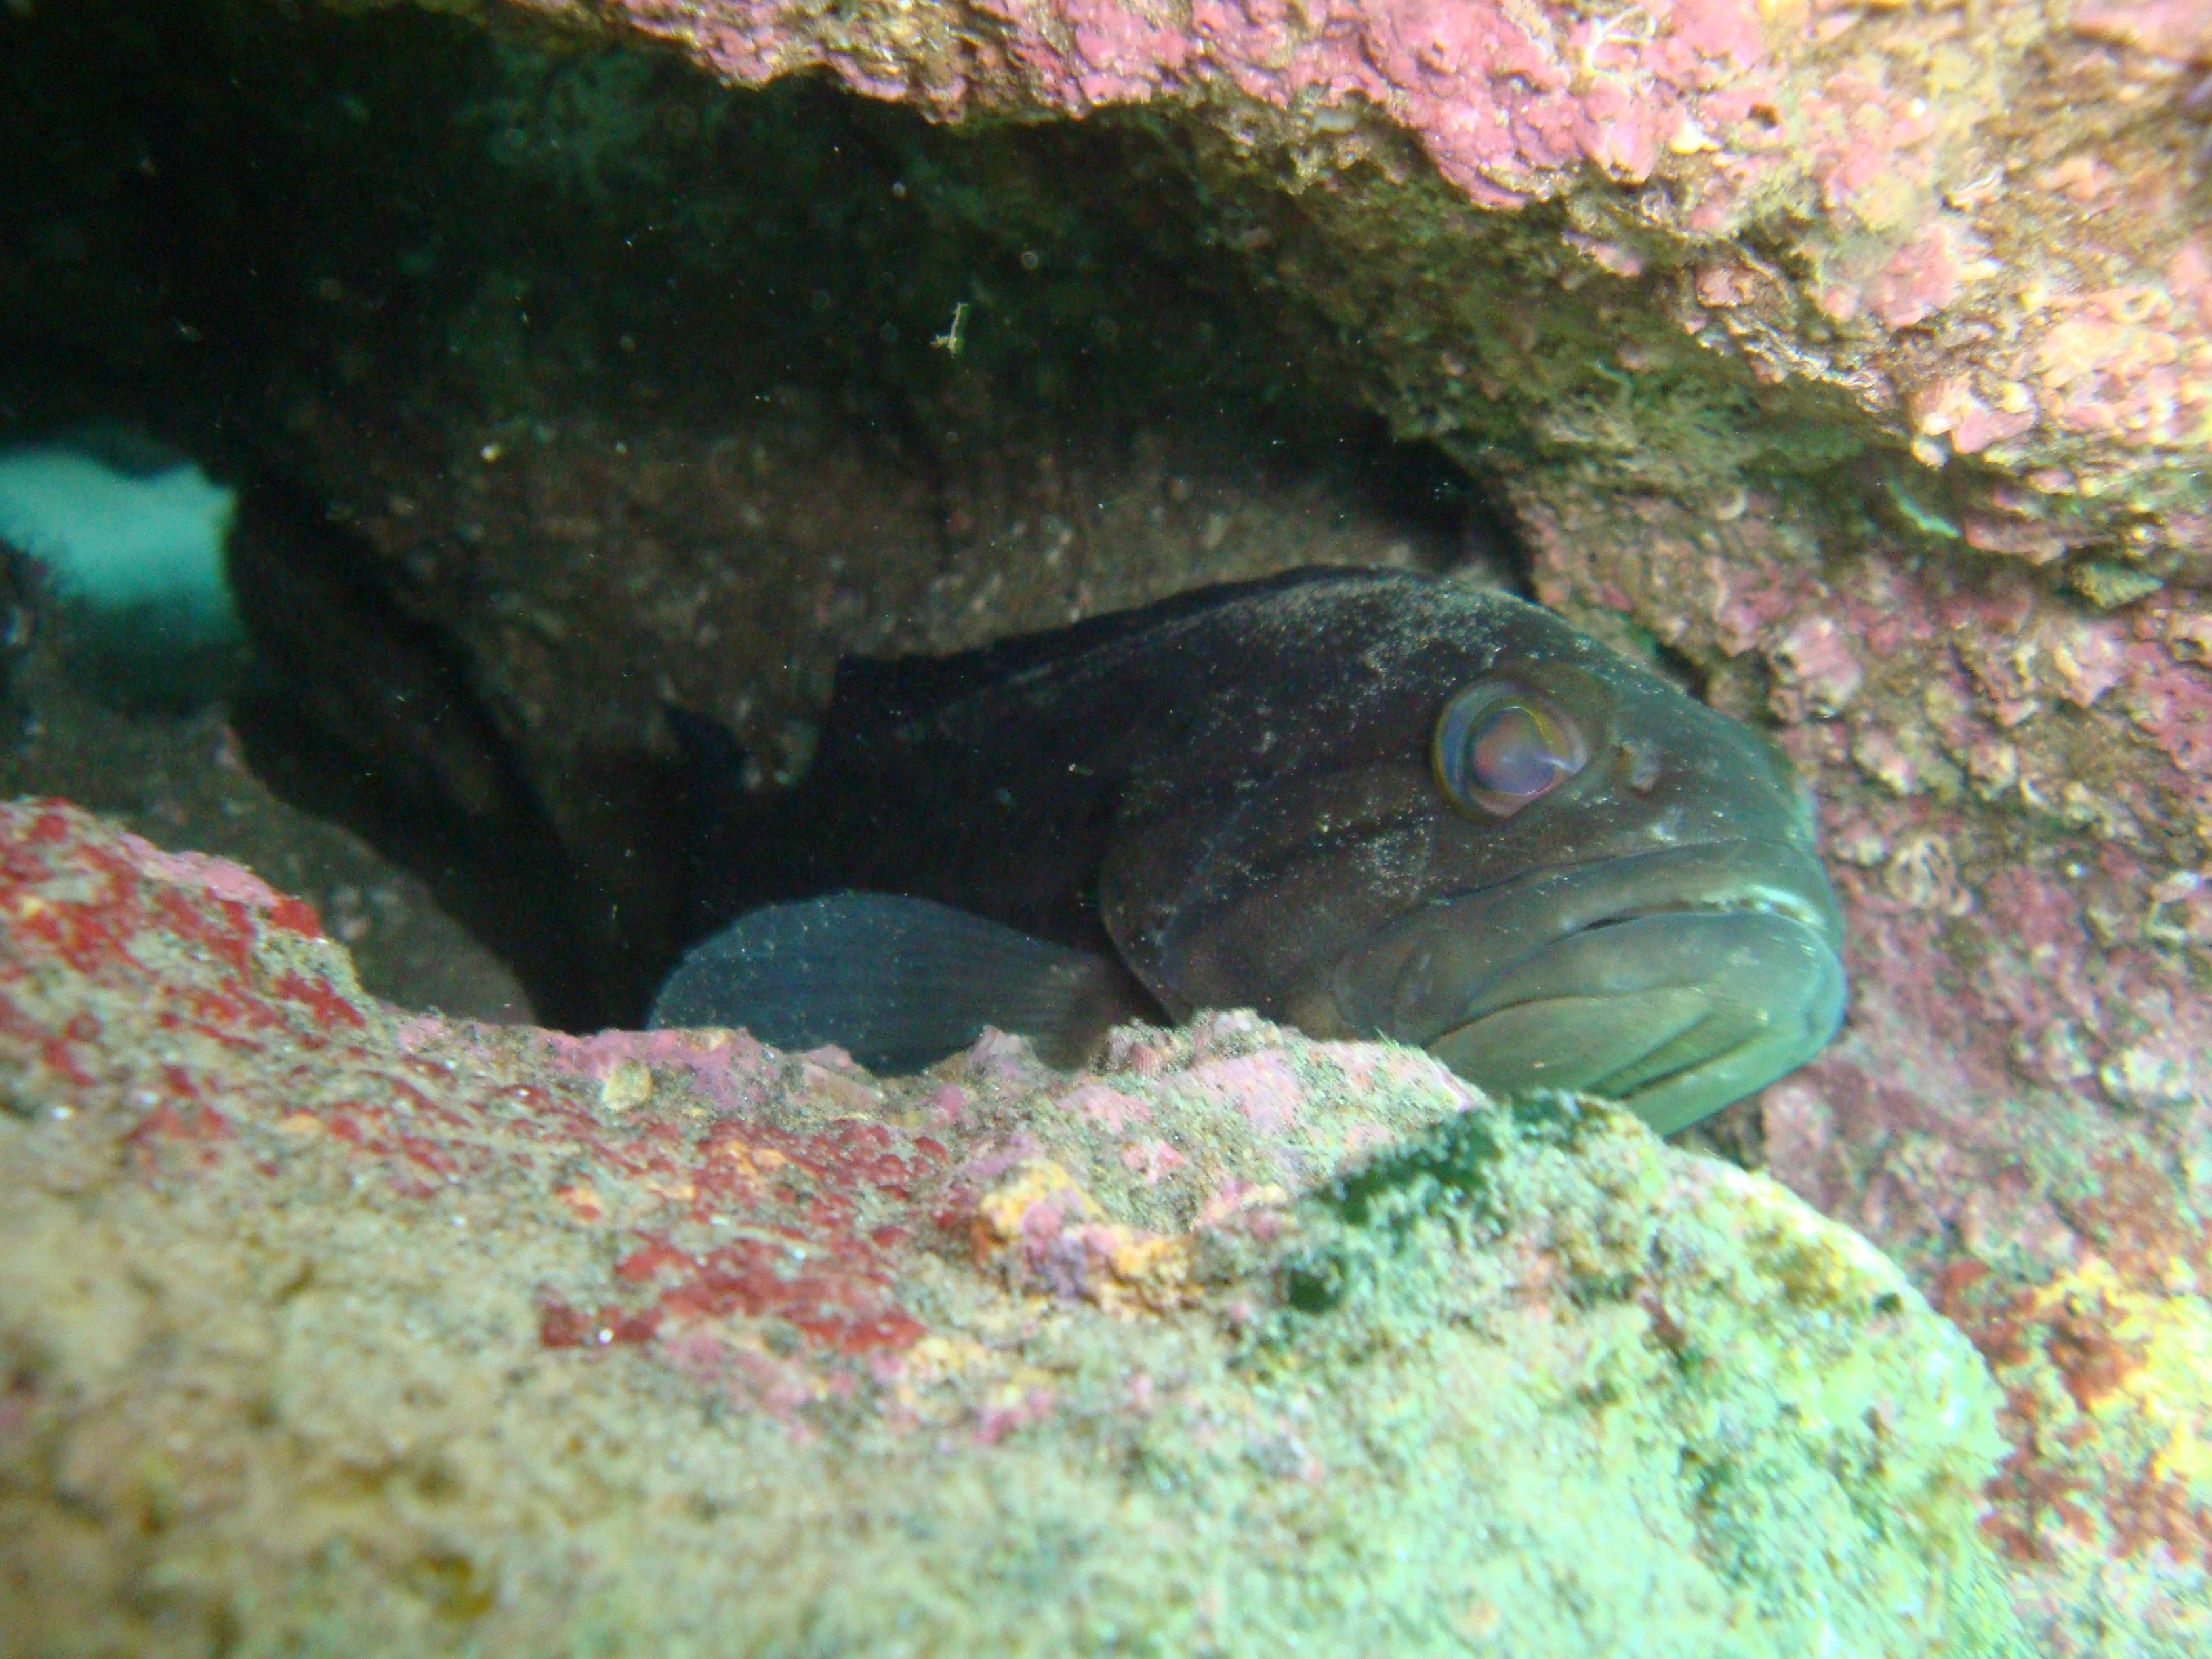Fish: (275, 460, 1942, 1166)
